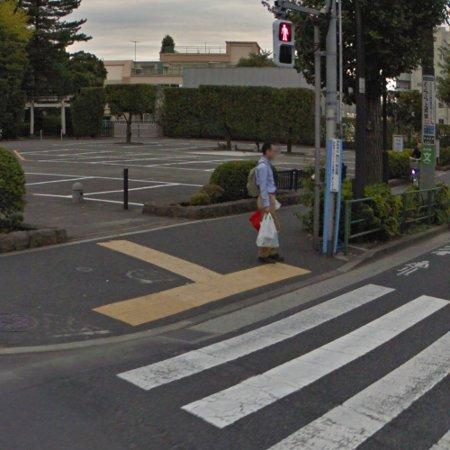crosswalks: (113, 280, 450, 450)
